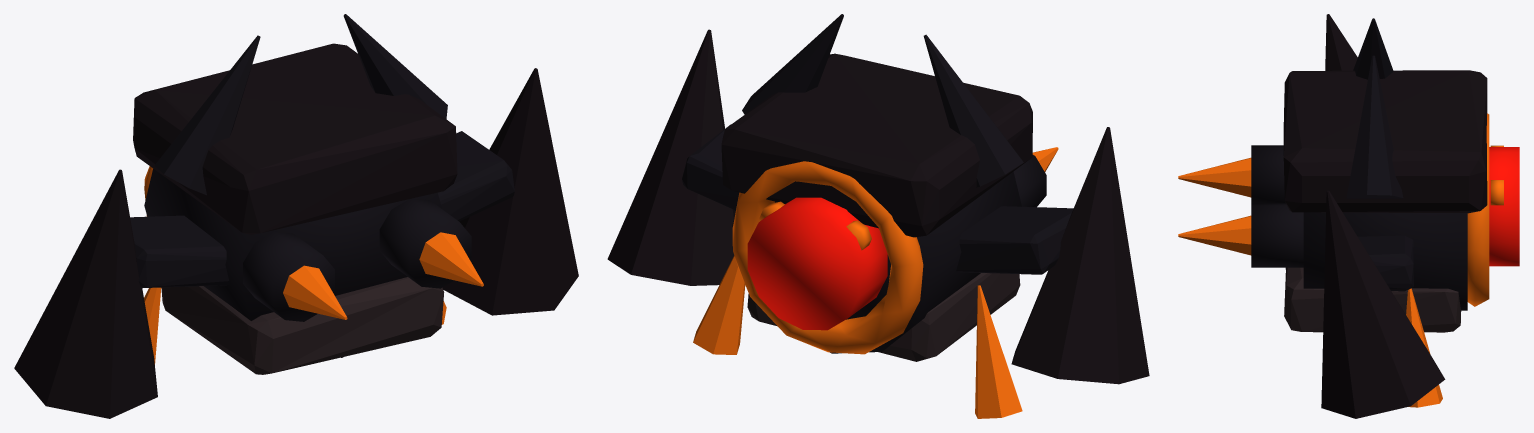
File: lava_sentinel.obj
The picture shows the model from 3 angles, left to right: view 1: azimuth 30°, elevation 25°; view 2: azimuth 150°, elevation 25°; view 3: azimuth 270°, elevation 25°; orthographic projection. The views are drawn at different scales.
Parts seen in each view (by area): view 1: LavaSentinel_ArmorTop, LavaSentinel_WingBlade_-1, LavaSentinel_WingBlade_1, LavaSentinel_ArmorBottom, LavaSentinel_CoreCage, LavaSentinel_WingRoot_-1, LavaSentinel_Horn_-1, LavaSentinel_Thruster_1, LavaSentinel_Thruster_-1, LavaSentinel_WingRoot_1, LavaSentinel_Horn_1, LavaSentinel_ThrusterFlame_-1 (+2 smaller); view 2: LavaSentinel_ArmorTop, LavaSentinel_WingBlade_-1, LavaSentinel_WingBlade_1, LavaSentinel_EnergyCore, LavaSentinel_CoreRing, LavaSentinel_WingRoot_-1, LavaSentinel_CoreCage, LavaSentinel_ArmorBottom, LavaSentinel_Horn_-1, LavaSentinel_Claw_-1, LavaSentinel_Claw_1, LavaSentinel_Horn_1 (+2 smaller); view 3: LavaSentinel_ArmorTop, LavaSentinel_WingBlade_1, LavaSentinel_CoreCage, LavaSentinel_Horn_1, LavaSentinel_ArmorBottom, LavaSentinel_EnergyCore, LavaSentinel_Thruster_1, LavaSentinel_CoreRing, LavaSentinel_WingRoot_1, LavaSentinel_Thruster_-1, LavaSentinel_ThrusterFlame_1, LavaSentinel_ThrusterFlame_-1 (+4 smaller).
Boxes of the visible parts, x1,y1,x2,y2 form: LavaSentinel_ArmorTop: (133, 43, 457, 234); LavaSentinel_WingBlade_-1: (14, 169, 157, 418); LavaSentinel_WingBlade_1: (442, 68, 578, 315); LavaSentinel_ArmorBottom: (161, 277, 444, 374); LavaSentinel_CoreCage: (144, 168, 441, 357); LavaSentinel_WingRoot_-1: (130, 215, 229, 288); LavaSentinel_Horn_-1: (154, 35, 260, 195); LavaSentinel_Thruster_1: (379, 198, 471, 288); LavaSentinel_Thruster_-1: (243, 231, 334, 321); LavaSentinel_WingRoot_1: (438, 131, 514, 221); LavaSentinel_Horn_1: (343, 14, 447, 118); LavaSentinel_ThrusterFlame_-1: (283, 265, 347, 319); LavaSentinel_ArmorTop: (721, 53, 1032, 237); LavaSentinel_WingBlade_-1: (1011, 127, 1149, 384); LavaSentinel_WingBlade_1: (607, 29, 735, 285); LavaSentinel_EnergyCore: (747, 197, 887, 330); LavaSentinel_CoreRing: (732, 161, 923, 354); LavaSentinel_WingRoot_-1: (956, 206, 1073, 274); LavaSentinel_CoreCage: (732, 171, 1021, 353); LavaSentinel_ArmorBottom: (747, 273, 1020, 361); LavaSentinel_Horn_-1: (923, 34, 1023, 187); LavaSentinel_Claw_-1: (975, 285, 1022, 418); LavaSentinel_Claw_1: (693, 255, 745, 354); LavaSentinel_Horn_1: (742, 14, 843, 114); LavaSentinel_ArmorTop: (1283, 70, 1487, 213); LavaSentinel_WingBlade_1: (1321, 190, 1445, 418); LavaSentinel_CoreCage: (1303, 212, 1467, 310); LavaSentinel_Horn_1: (1346, 55, 1403, 198); LavaSentinel_ArmorBottom: (1284, 267, 1461, 332); LavaSentinel_EnergyCore: (1489, 147, 1519, 266); LavaSentinel_Thruster_1: (1251, 203, 1303, 267); LavaSentinel_CoreRing: (1467, 113, 1489, 306); LavaSentinel_WingRoot_1: (1358, 235, 1413, 291); LavaSentinel_Thruster_-1: (1251, 145, 1285, 203); LavaSentinel_ThrusterFlame_1: (1178, 215, 1251, 255); LavaSentinel_ThrusterFlame_-1: (1178, 157, 1251, 197).
Size of the model in its own units: 17.96 by 11.38 by 11.45.
